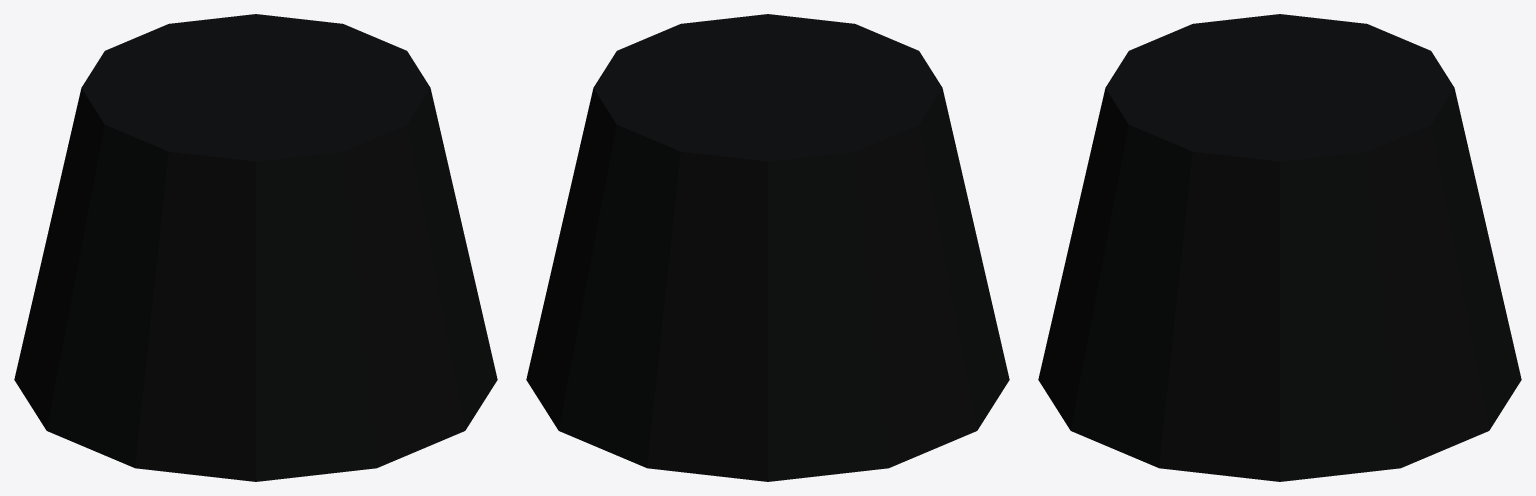
The model's file is Cockpit_Rotorcraft__Controls.obj.
3 views of the same model, side by side, from view 1: azimuth 30°, elevation 25°; view 2: azimuth 150°, elevation 25°; view 3: azimuth 270°, elevation 25° (orthographic).
Parts seen in each view (by area): view 1: Stick_boot; view 2: Stick_boot; view 3: Stick_boot.
Part boxes in pixels (box(x1,y1,x2,y2)): Stick_boot: box(14, 14, 497, 481); Stick_boot: box(526, 14, 1009, 481); Stick_boot: box(1038, 14, 1521, 481).
Bounding box in the file's own units: 0.18 × 0.12 × 0.18.
